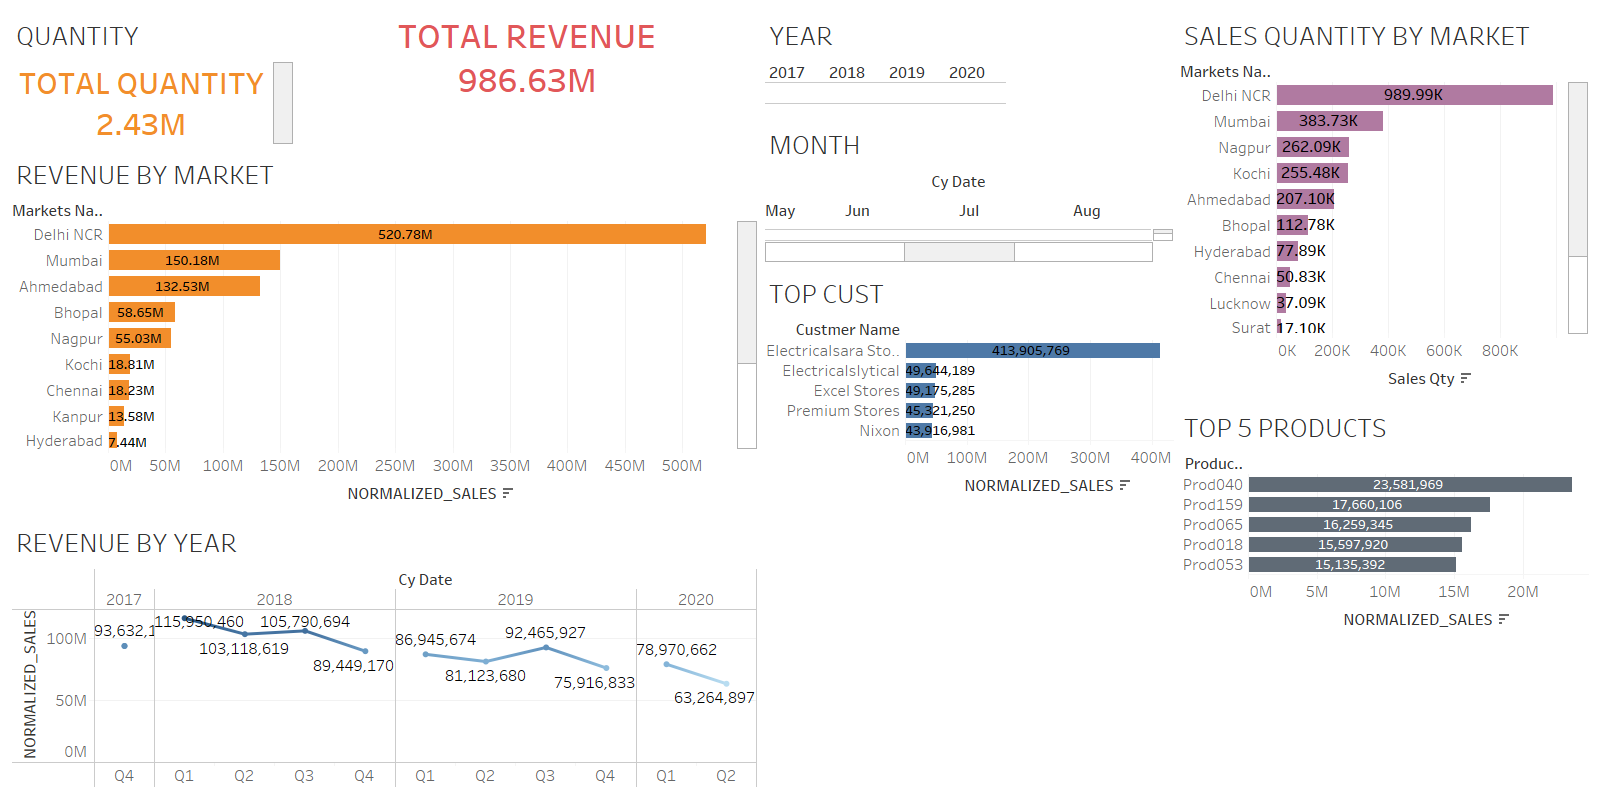

The page's visual inventory and layout, read from the dashboard file:
{"tool":"tableau","page":{"name":"Dashboard 1","canvas":[1600,800],"ordinal":0},"visuals":[{"type":"worksheet","title":"QUANTITY","mark":"Automatic","box":[8,8,376.5,139]},{"type":"worksheet","title":"TOTAL REVENUE","mark":"Automatic","box":[384.5,8,376.5,139]},{"type":"worksheet","title":"YEAR","mark":"Automatic","cols":["cy_date"],"box":[761,8,415.5,109]},{"type":"worksheet","title":"SALES QUANTITY BY MARKET","mark":"Automatic","rows":["markets_name"],"cols":["sales_qty"],"box":[1176.5,8,415.5,392]},{"type":"worksheet","title":"MONTH","mark":"Automatic","cols":["cy_date"],"box":[761,117,415.5,149]},{"type":"worksheet","title":"REVENUE BY MARKET","mark":"Automatic","rows":["markets_name"],"cols":["Calculation_1268889207770894337"],"box":[8,147,753,368.3]},{"type":"worksheet","title":"TOP 5 MARKET","mark":"Automatic","rows":["custmer_name"],"cols":["Calculation_1268889207770894337"],"box":[761,266,415.5,526]},{"type":"worksheet","title":"TOP 5 PRODUCTS","mark":"Automatic","rows":["product_code (products)"],"cols":["Calculation_1268889207770894337"],"box":[1176.5,400,415.5,392]},{"type":"worksheet","title":"REVENUE BY YEAR","mark":"Automatic","rows":["Calculation_1268889207770894337"],"cols":["cy_date","cy_date"],"box":[8,515.3,753,276.7]}]}

Visuals, with their boxes in screenshot pixels (x1, y1, x2, y2), scaled from the page's 1600x800 canvas onto the 1600x800 screenshot:
"QUANTITY" worksheet: BBox(8, 8, 384, 147)
"TOTAL REVENUE" worksheet: BBox(384, 8, 761, 147)
"YEAR" worksheet: BBox(761, 8, 1176, 117)
"SALES QUANTITY BY MARKET" worksheet: BBox(1176, 8, 1592, 400)
"MONTH" worksheet: BBox(761, 117, 1176, 266)
"REVENUE BY MARKET" worksheet: BBox(8, 147, 761, 515)
"TOP 5 MARKET" worksheet: BBox(761, 266, 1176, 792)
"TOP 5 PRODUCTS" worksheet: BBox(1176, 400, 1592, 792)
"REVENUE BY YEAR" worksheet: BBox(8, 515, 761, 792)
